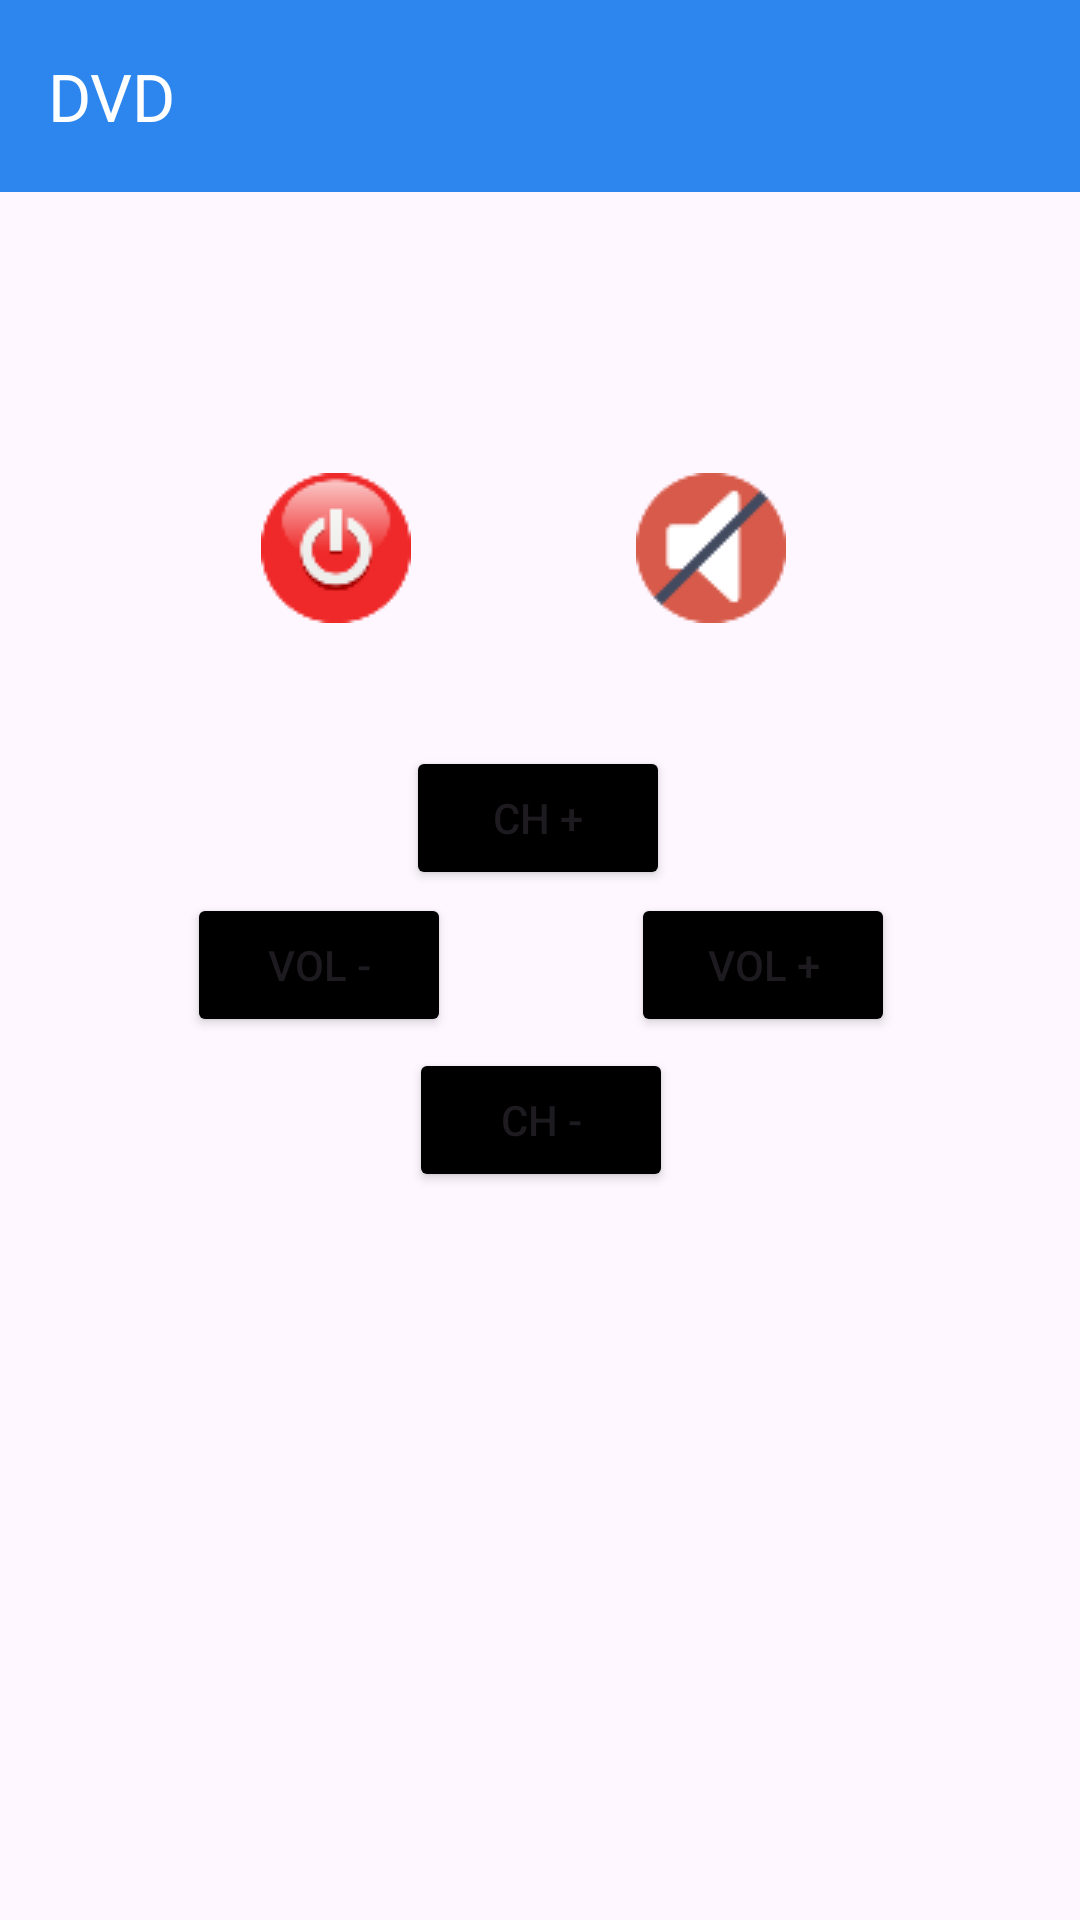

Point at icon controls on the screen. Image size 1080 x 1920, points as [x,y].
bouton: [336,548]
muet: [711,548]
